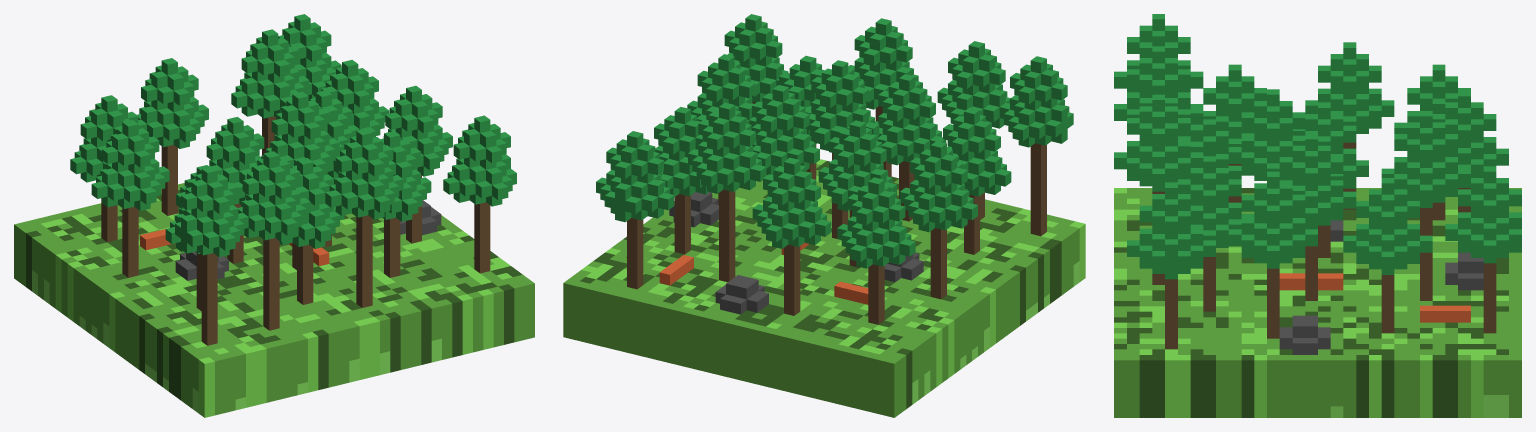
File: Plaines Map-13.obj
3 renders of one model, left to right at view 1: azimuth 30°, elevation 25°; view 2: azimuth 150°, elevation 25°; view 3: azimuth 270°, elevation 25°, orthographic. The views are drawn at different scales.
Bounding box in the file's own units: 3.2 × 2.1 × 3.2.
Materials: 1 (1 with a texture image).
